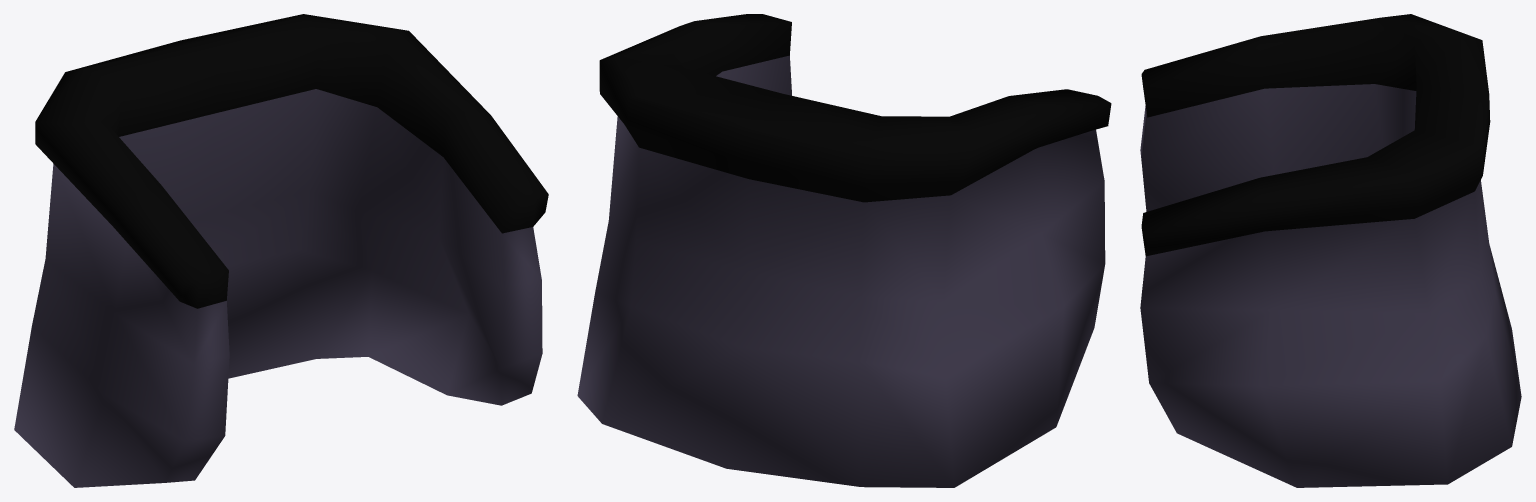
The model's file is Cape.fbx.
3 views of the same model, side by side, from view 1: azimuth 30°, elevation 25°; view 2: azimuth 150°, elevation 25°; view 3: azimuth 270°, elevation 25° (orthographic). The views are drawn at different scales.
Parts seen in each view (by area): view 1: Cape; view 2: Cape; view 3: Cape.
Boxes of the visible parts, x1,y1,x2,y2 form: Cape: (14,14,548,487); Cape: (577,14,1111,487); Cape: (1140,14,1521,487).
Size of the model in its own units: 290 by 229 by 246.
